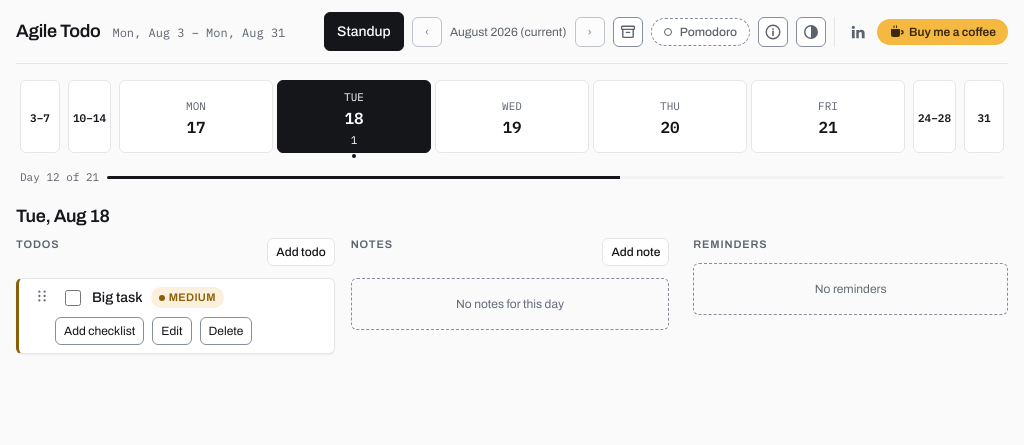
Test case: todo checklists › Add checklist opens the add form focused and creates the first item
The image size is (1024, 445).
Click the button with aria-label "Add checklist to todo: Big task": (100, 331) [55,317,144,345]
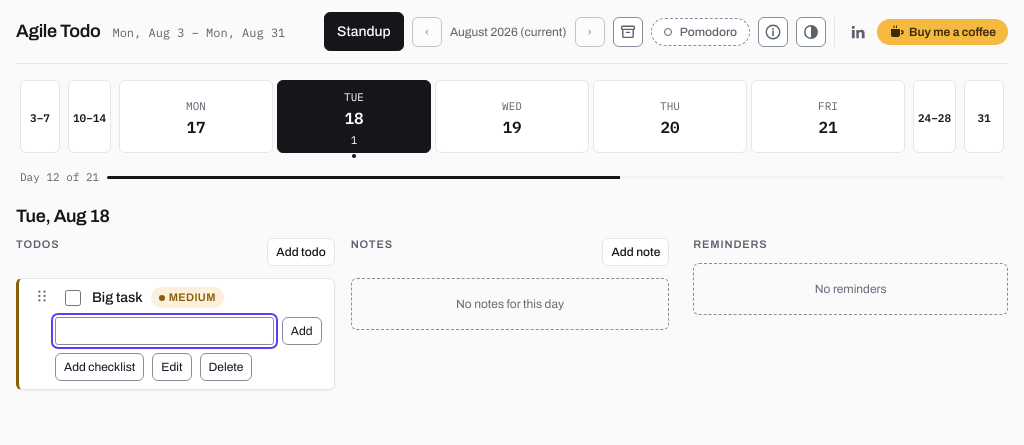
In the field named "Add checklist item": (164, 331) [55,317,274,345], type "part one"
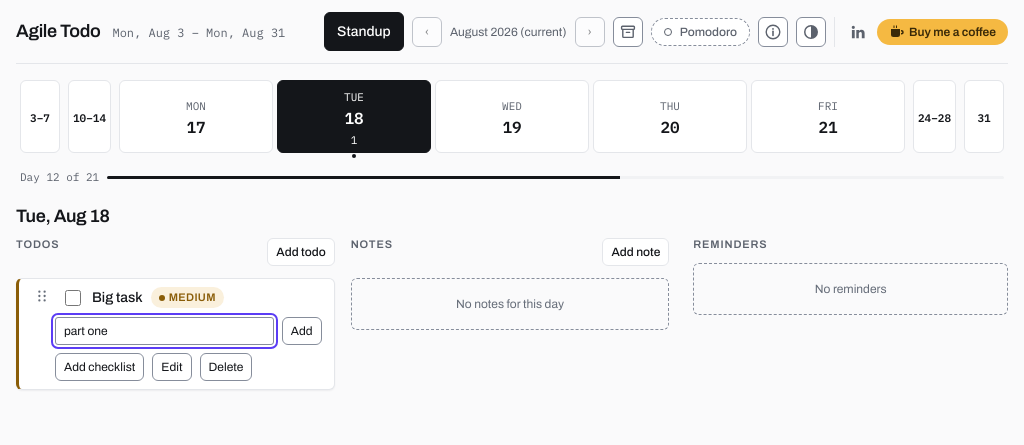
Click the button with aria-label "Add checklist item to todo: Big task": (302, 331) [282,317,322,345]
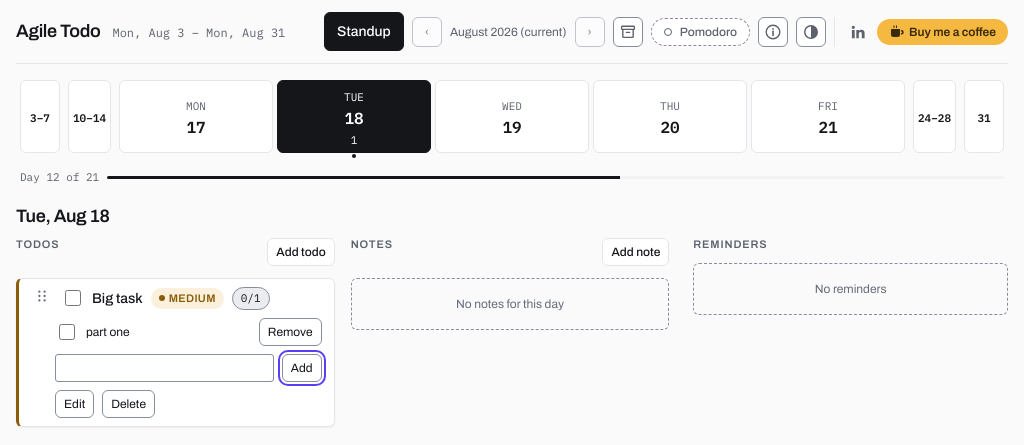
Check: the checkbox labelled "part one" is not checked, box [59,324,75,340]
Check: the field named "Add checklist item" is empty, box [55,354,274,382]
